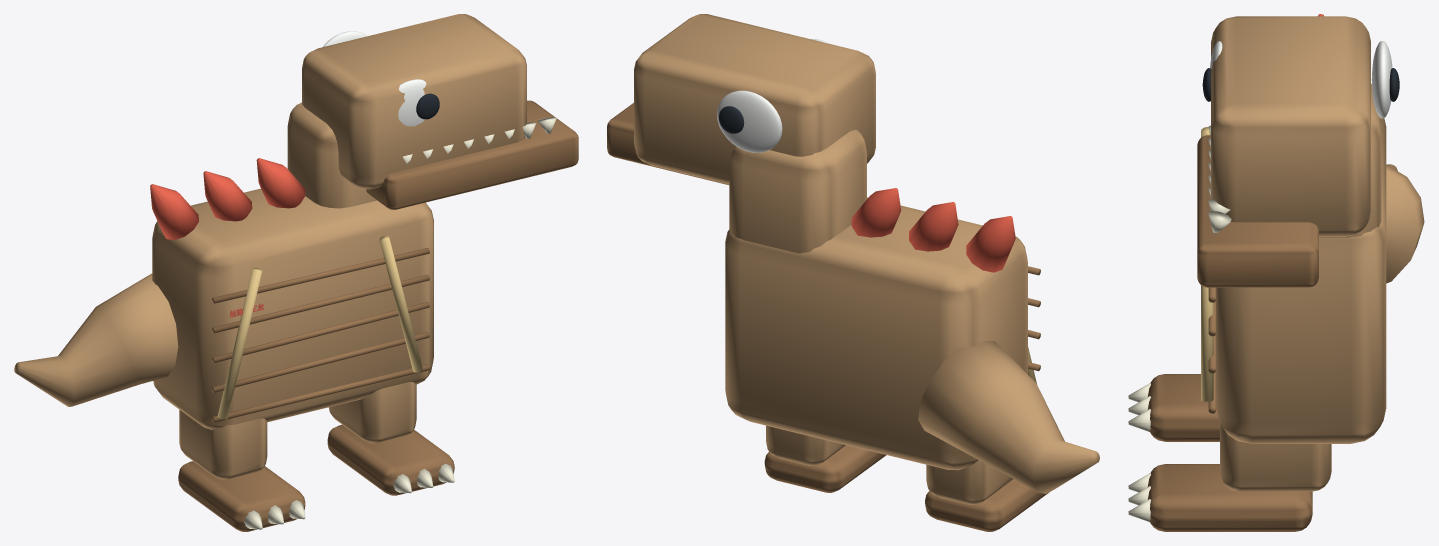
Rendered from P03_Cardboard_Tyrannosaurus_Stomp.glb.
3 views of the same model, side by side, from view 1: azimuth 30°, elevation 25°; view 2: azimuth 150°, elevation 25°; view 3: azimuth 270°, elevation 25° (orthographic). The views are drawn at different scales.
Visible parts, largest first — view 1: P03 cardboard T-Rex large rounded belly, P03_DINO_HEAD_ACTOR | Corrugated warm ochre craft cardboard, P03 crooked folded long dinosaur tail, P03_DINO_LEGS_ACTOR | Open corrugated brown cardboard edges, P03 actual separate hollow jaw, P03_DINO_LEGS_ACTOR | Corrugated warm ochre craft cardboard, P03_BOX_BODY_ACTOR | Open corrugated brown cardboard edges, P03_BOX_BODY_ACTOR | School art club red paint, P03_BOX_BODY_ACTOR | Crossed packaging paper tape, P03_DINO_LEGS_ACTOR | Handcut white craft foam dinosaur teet, P03_DINO_HEAD_ACTOR | Googly plastic eyeball whites, P03_DINO_HEAD_ACTOR | Handcut white craft foam dinosaur teet; view 2: P03 cardboard T-Rex large rounded belly, P03_DINO_HEAD_ACTOR | Corrugated warm ochre craft cardboard, P03 crooked folded long dinosaur tail, P03_DINO_LEGS_ACTOR | Open corrugated brown cardboard edges, P03_BOX_BODY_ACTOR | School art club red paint, P03_DINO_LEGS_ACTOR | Corrugated warm ochre craft cardboard, P03_DINO_HEAD_ACTOR | Googly plastic eyeball whites, P03 actual separate hollow jaw; view 3: P03_DINO_HEAD_ACTOR | Corrugated warm ochre craft cardboard, P03 cardboard T-Rex large rounded belly, P03_DINO_LEGS_ACTOR | Open corrugated brown cardboard edges, P03 actual separate hollow jaw, P03_DINO_LEGS_ACTOR | Corrugated warm ochre craft cardboard, P03 crooked folded long dinosaur tail, P03_DINO_LEGS_ACTOR | Handcut white craft foam dinosaur teet, P03_DINO_HEAD_ACTOR | Googly plastic eyeball whites, P03_BOX_BODY_ACTOR | Crossed packaging paper tape, P03_BOX_BODY_ACTOR | Open corrugated brown cardboard edges, P03_DINO_HEAD_ACTOR | Handcut white craft foam dinosaur teet, P03_DINO_HEAD_ACTOR | Googly pupils hard black.
Boxes of the visible parts, box(x1,y1,x2,y2) form: P03 cardboard T-Rex large rounded belly: box(152, 188, 433, 429); P03_DINO_HEAD_ACTOR | Corrugated warm ochre craft cardboard: box(287, 14, 526, 208); P03 crooked folded long dinosaur tail: box(14, 273, 178, 406); P03_DINO_LEGS_ACTOR | Open corrugated brown cardboard edges: box(178, 424, 454, 531); P03 actual separate hollow jaw: box(366, 100, 578, 209); P03_DINO_LEGS_ACTOR | Corrugated warm ochre craft cardboard: box(179, 382, 416, 479); P03_BOX_BODY_ACTOR | Open corrugated brown cardboard edges: box(212, 248, 429, 422); P03_BOX_BODY_ACTOR | School art club red paint: box(150, 158, 305, 317); P03_BOX_BODY_ACTOR | Crossed packaging paper tape: box(217, 236, 422, 419); P03_DINO_LEGS_ACTOR | Handcut white craft foam dinosaur teet: box(244, 463, 454, 529); P03_DINO_HEAD_ACTOR | Googly plastic eyeball whites: box(323, 31, 426, 126); P03_DINO_HEAD_ACTOR | Handcut white craft foam dinosaur teet: box(403, 117, 556, 163); P03 cardboard T-Rex large rounded belly: box(725, 197, 1027, 470); P03_DINO_HEAD_ACTOR | Corrugated warm ochre craft cardboard: box(634, 14, 875, 253); P03 crooked folded long dinosaur tail: box(918, 340, 1099, 493); P03_DINO_LEGS_ACTOR | Open corrugated brown cardboard edges: box(764, 445, 1049, 531); P03_BOX_BODY_ACTOR | School art club red paint: box(851, 188, 1015, 272); P03_DINO_LEGS_ACTOR | Corrugated warm ochre craft cardboard: box(766, 425, 1013, 504); P03_DINO_HEAD_ACTOR | Googly plastic eyeball whites: box(717, 39, 830, 152); P03 actual separate hollow jaw: box(607, 103, 728, 184); P03_DINO_HEAD_ACTOR | Corrugated warm ochre craft cardboard: box(1211, 16, 1381, 237); P03 cardboard T-Rex large rounded belly: box(1216, 118, 1386, 443); P03_DINO_LEGS_ACTOR | Open corrugated brown cardboard edges: box(1147, 374, 1312, 531); P03 actual separate hollow jaw: box(1197, 135, 1318, 287); P03_DINO_LEGS_ACTOR | Corrugated warm ochre craft cardboard: box(1220, 423, 1331, 491); P03 crooked folded long dinosaur tail: box(1386, 164, 1424, 283); P03_DINO_LEGS_ACTOR | Handcut white craft foam dinosaur teet: box(1128, 382, 1150, 521); P03_DINO_HEAD_ACTOR | Googly plastic eyeball whites: box(1210, 41, 1392, 118); P03_BOX_BODY_ACTOR | Crossed packaging paper tape: box(1201, 127, 1213, 401); P03_BOX_BODY_ACTOR | Open corrugated brown cardboard edges: box(1208, 287, 1216, 413); P03_DINO_HEAD_ACTOR | Handcut white craft foam dinosaur teet: box(1208, 125, 1231, 232); P03_DINO_HEAD_ACTOR | Googly pupils hard black: box(1202, 68, 1399, 101).
Size of the model in its own units: 2.75 by 2.11 by 1.17.
